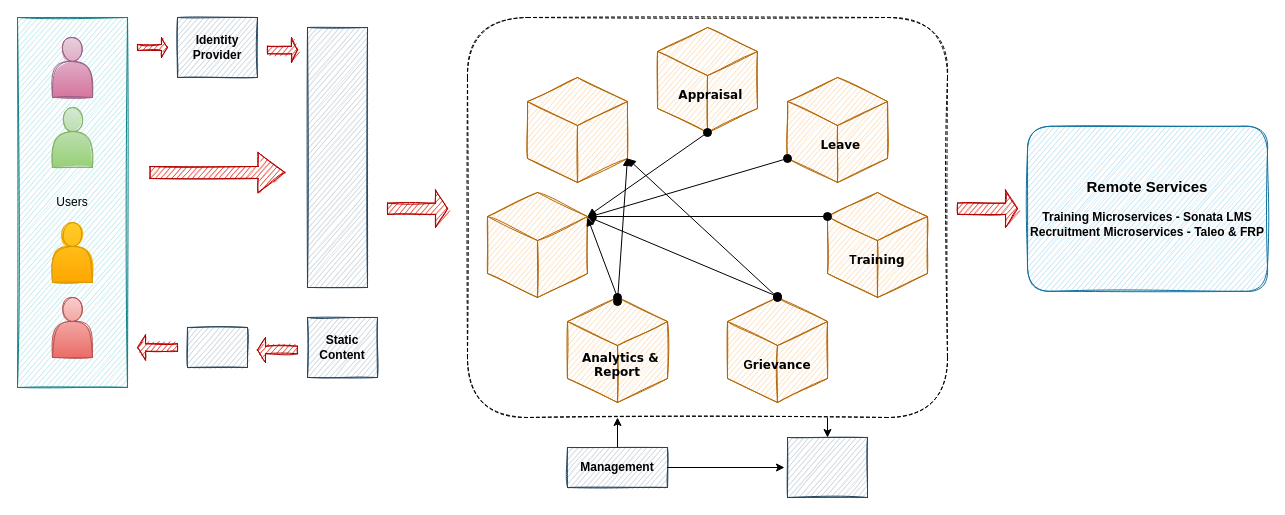
Image size: 1285x515. Some labels were removed from this diagram. The shapes that lost their labels are listed below. From the top down, each one's centre as x and y in pixels, then its label:
At (x=577, y=129): "Freshers Recruitment Management".
At (x=337, y=157): "API Gateway".
At (x=537, y=245): "Employee Management".
At (x=217, y=347): "CDN".
At (x=827, y=467): "Service Discovery".
